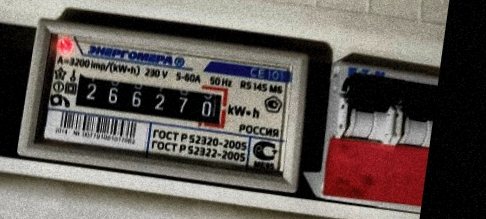0: (199, 97, 212, 119)
2: (83, 79, 100, 102), (152, 91, 167, 112)
6: (105, 85, 120, 106), (129, 88, 144, 108)
7: (175, 94, 189, 114)
screen: (61, 60, 240, 139)
